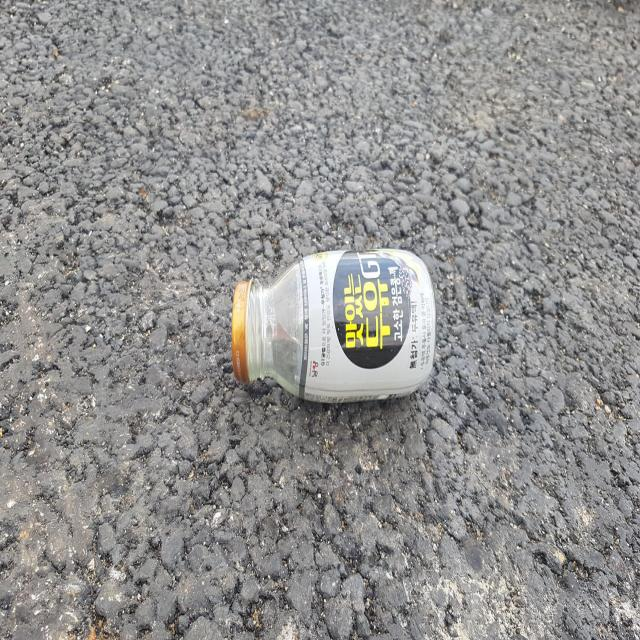glass: (232, 248, 436, 403)
